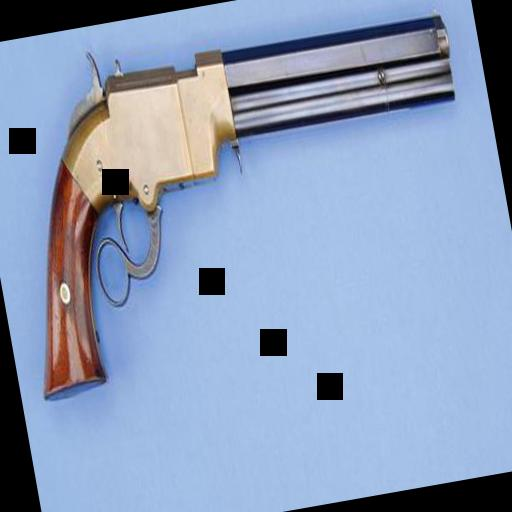Handgun: (0, 0, 496, 404)
